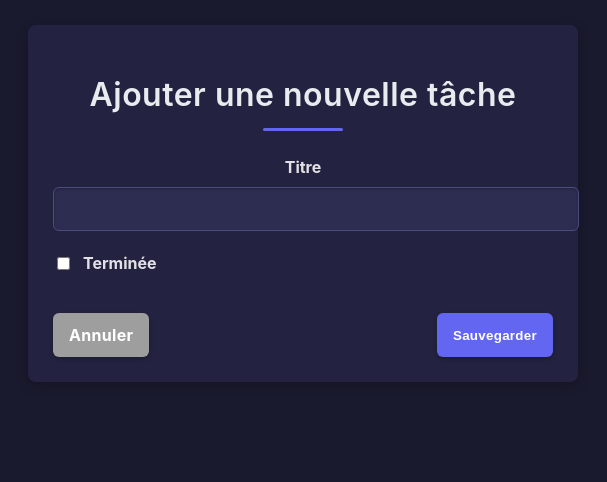
Test case: TodoFormPage › devrait afficher une erreur si la sauvegarde échoue
Step 1. Type "Test" into the field labelled "Titre" → (316, 209), box [53,187,579,231]
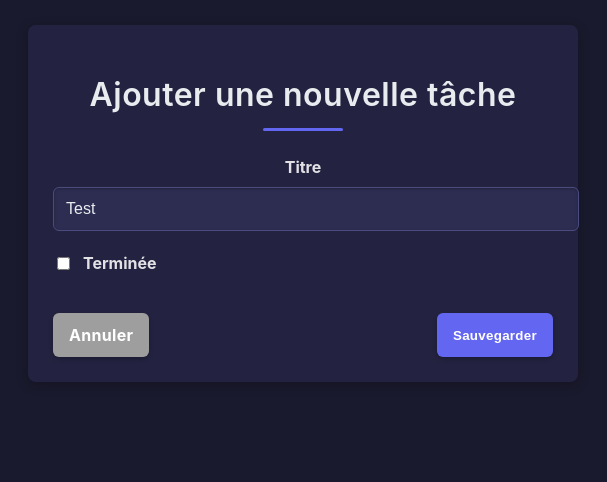
Step 2. Click the button "Sauvegarder" → (495, 335), box [437,313,553,357]
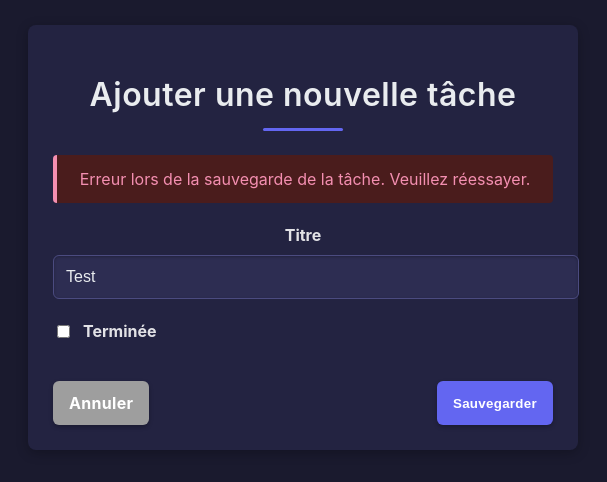
Now the text "Erreur lors de la sauvegarde de la tâche. Veuillez réessayer." is shown, box [53,155,553,203]
